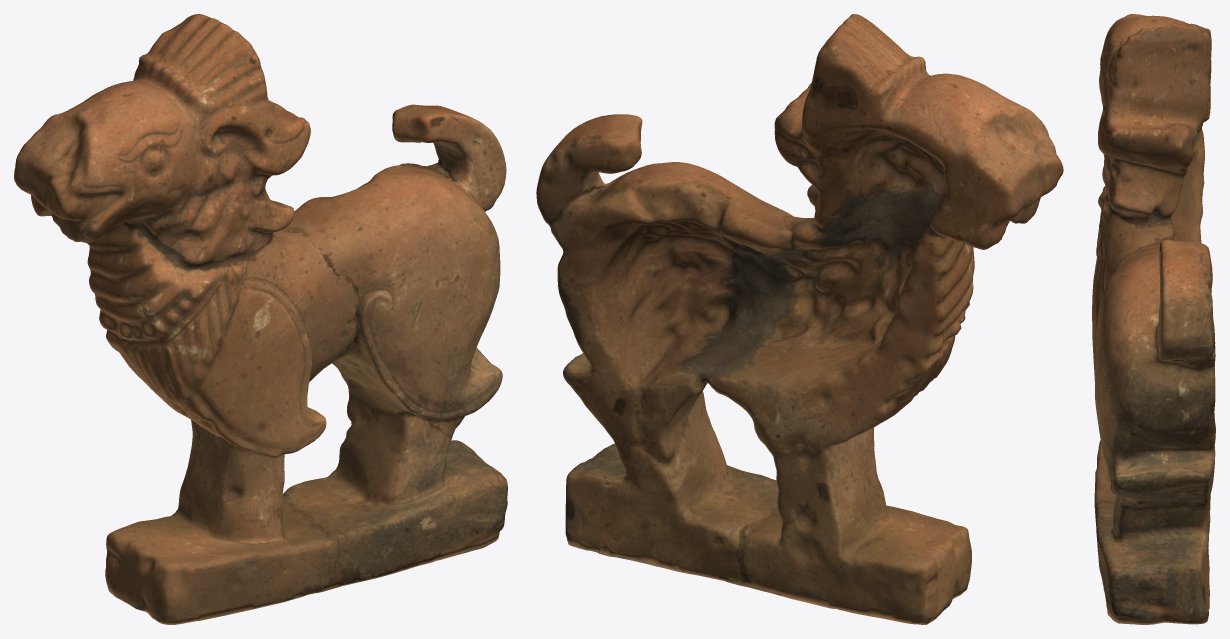
File: MysonMuseum_gajasimha_final.glb
3 views of the same model, side by side, from view 1: azimuth 30°, elevation 25°; view 2: azimuth 150°, elevation 25°; view 3: azimuth 270°, elevation 25° (orthographic). The views are drawn at different scales.
Size of the model in its own units: 0.4351 by 0.4912 by 0.1124.
1 material, 1 textured.
